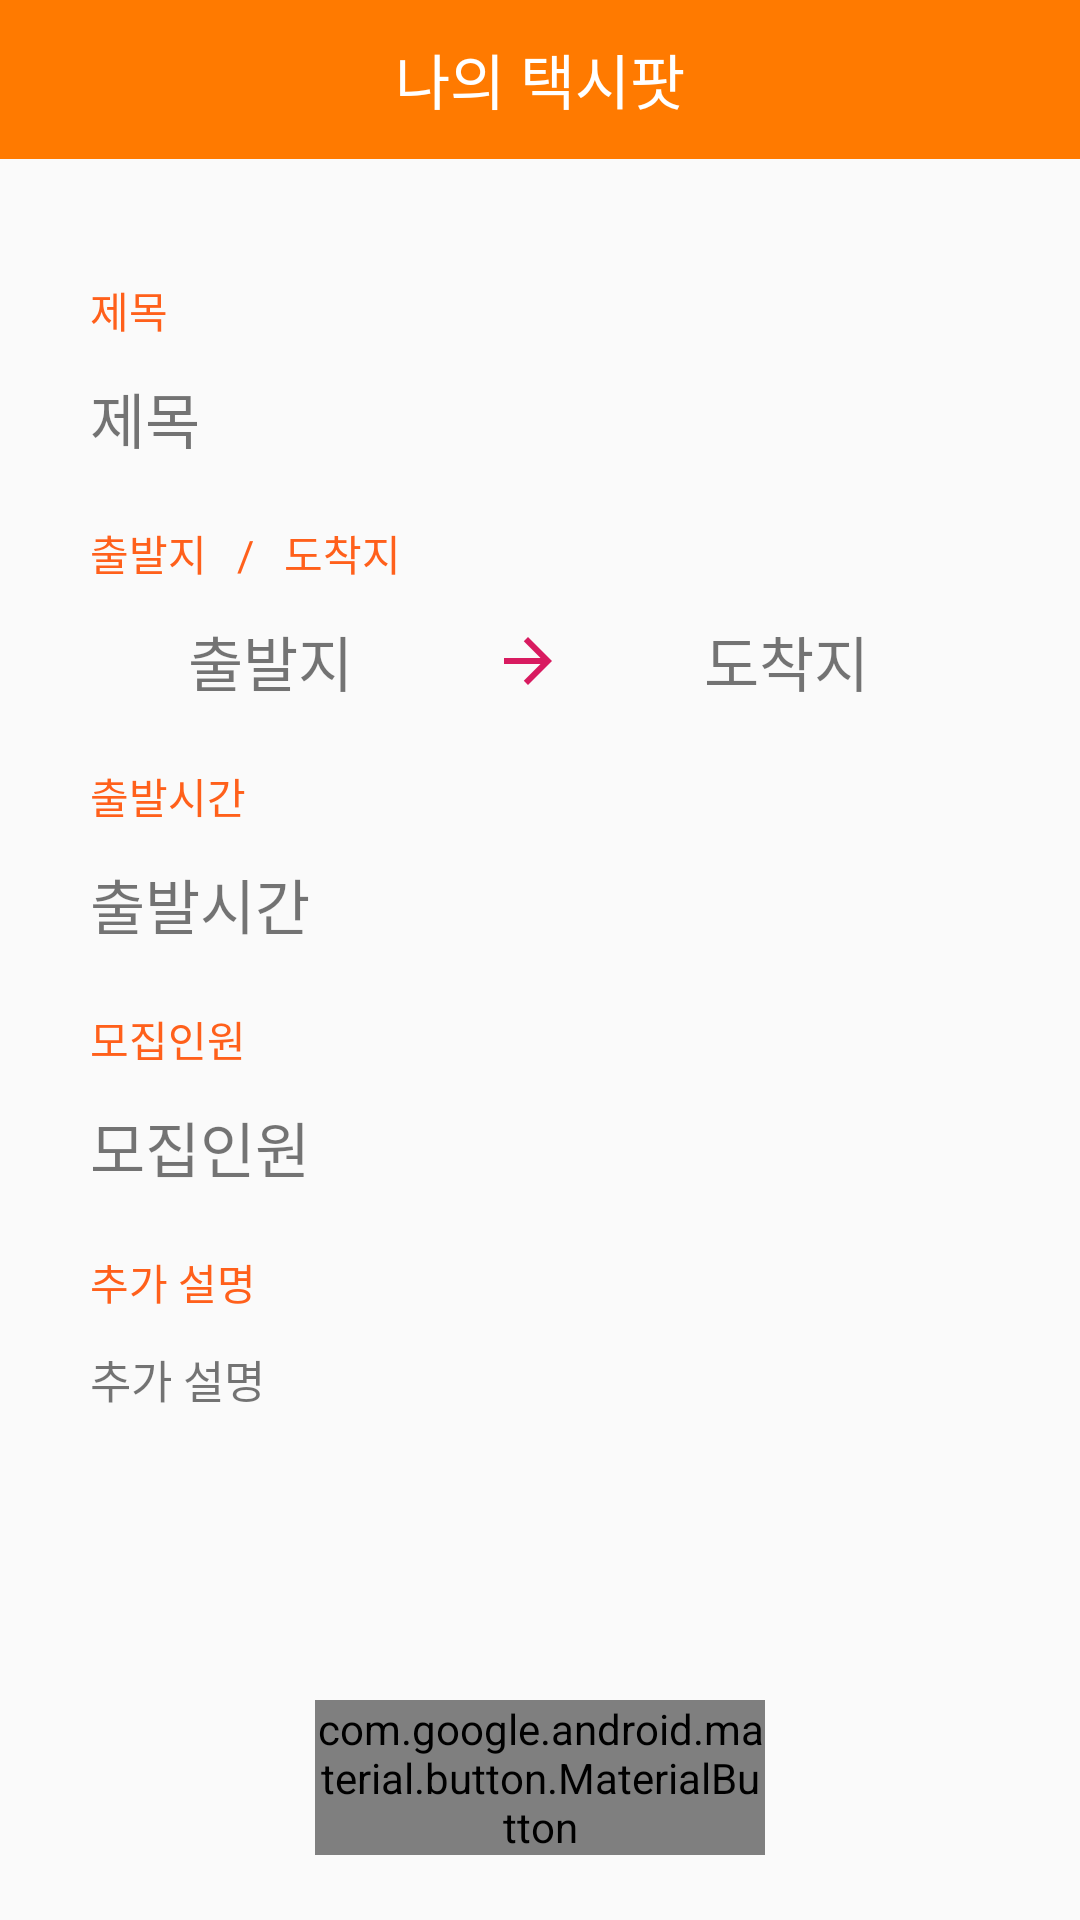

Point at icon controls on the screen. Image size 1080*1920, points as (x=x, y=y).
arrow forward: (x=528, y=661)
